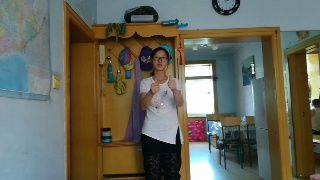hand: (149, 77, 160, 93), (166, 73, 176, 90)
